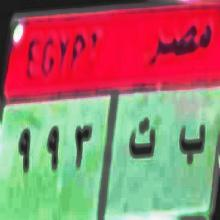3: (74, 122, 93, 173)
9: (45, 122, 61, 183), (16, 122, 31, 183)
baa: (178, 123, 206, 170)
taa: (128, 116, 156, 167)
